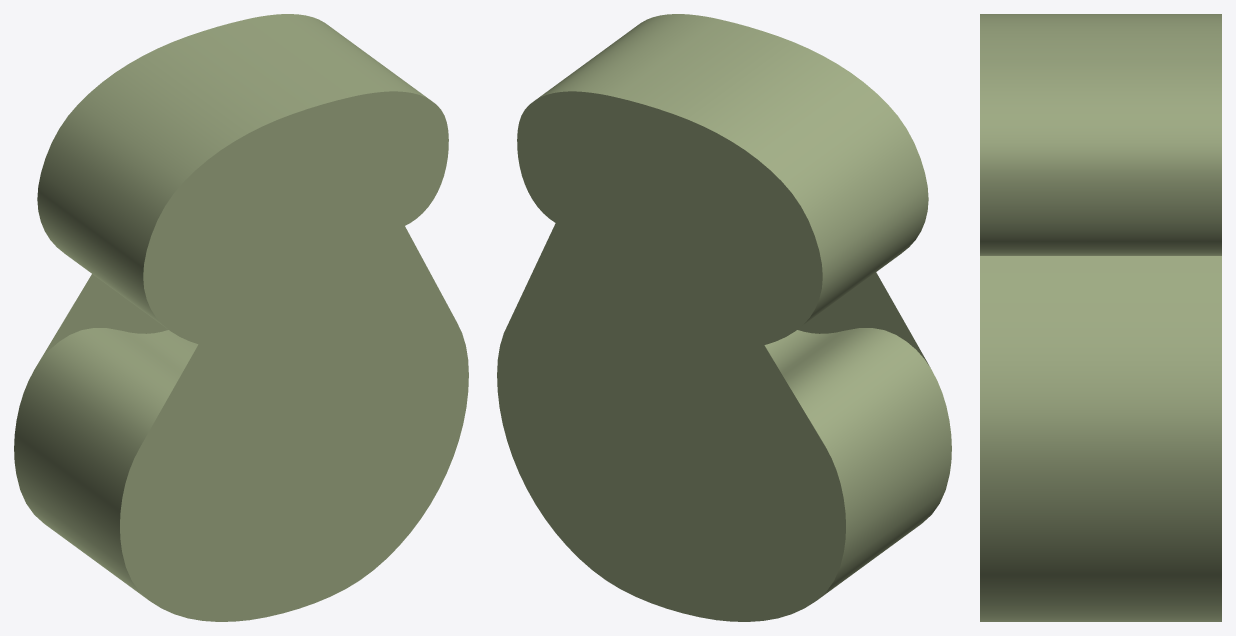
Rendered from small-s.fbx.
The picture shows the model from 3 angles, left to right: view 1: azimuth 30°, elevation 25°; view 2: azimuth 150°, elevation 25°; view 3: azimuth 270°, elevation 25°; orthographic projection. The views are drawn at different scales.
Parts seen in each view (by area): view 1: small_s; view 2: small_s; view 3: small_s.
Part boxes in pixels (x1,y1,x2,y2): small_s: [14, 14, 468, 621]; small_s: [497, 14, 951, 621]; small_s: [980, 14, 1221, 621].
Bounding box in the file's own units: 4.76 × 6.51 × 2.5.
